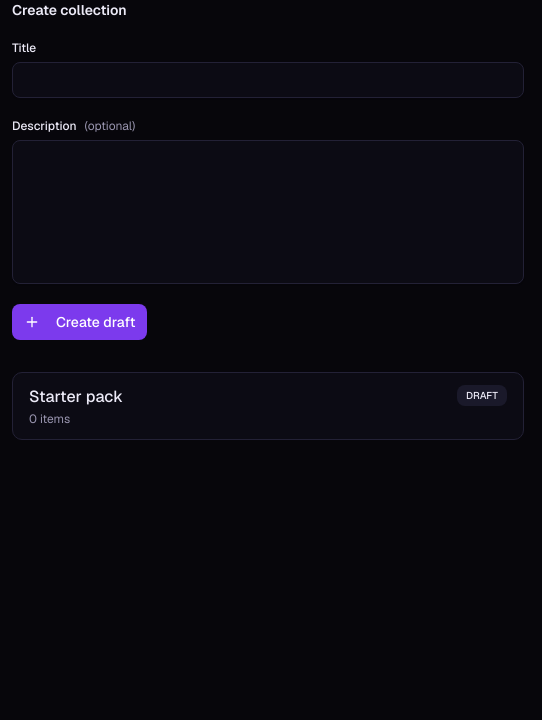
Test case: SellMyCollections listings error › does not show the empty-listings upload prompt when listings fail
Click the button "Starter pack 0 items DRAFT" at [76, 396], box [12,372,524,440]
(page scrolled)
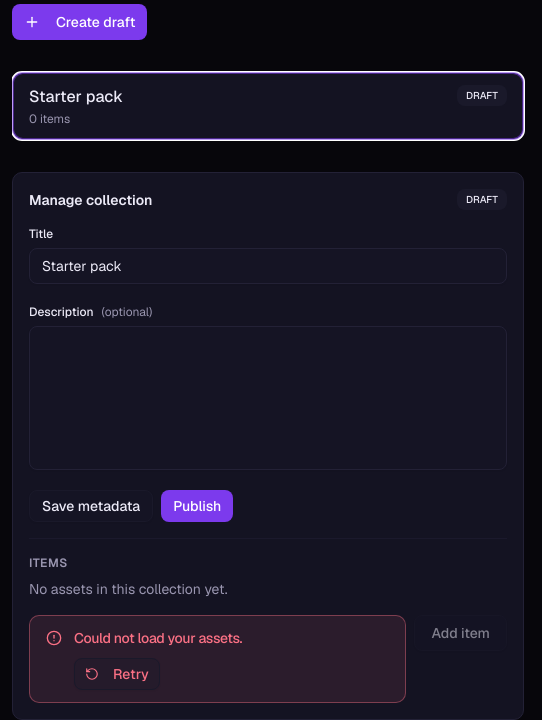
Result: the text "Could not load your assets." is shown at [74,629,242,647]
